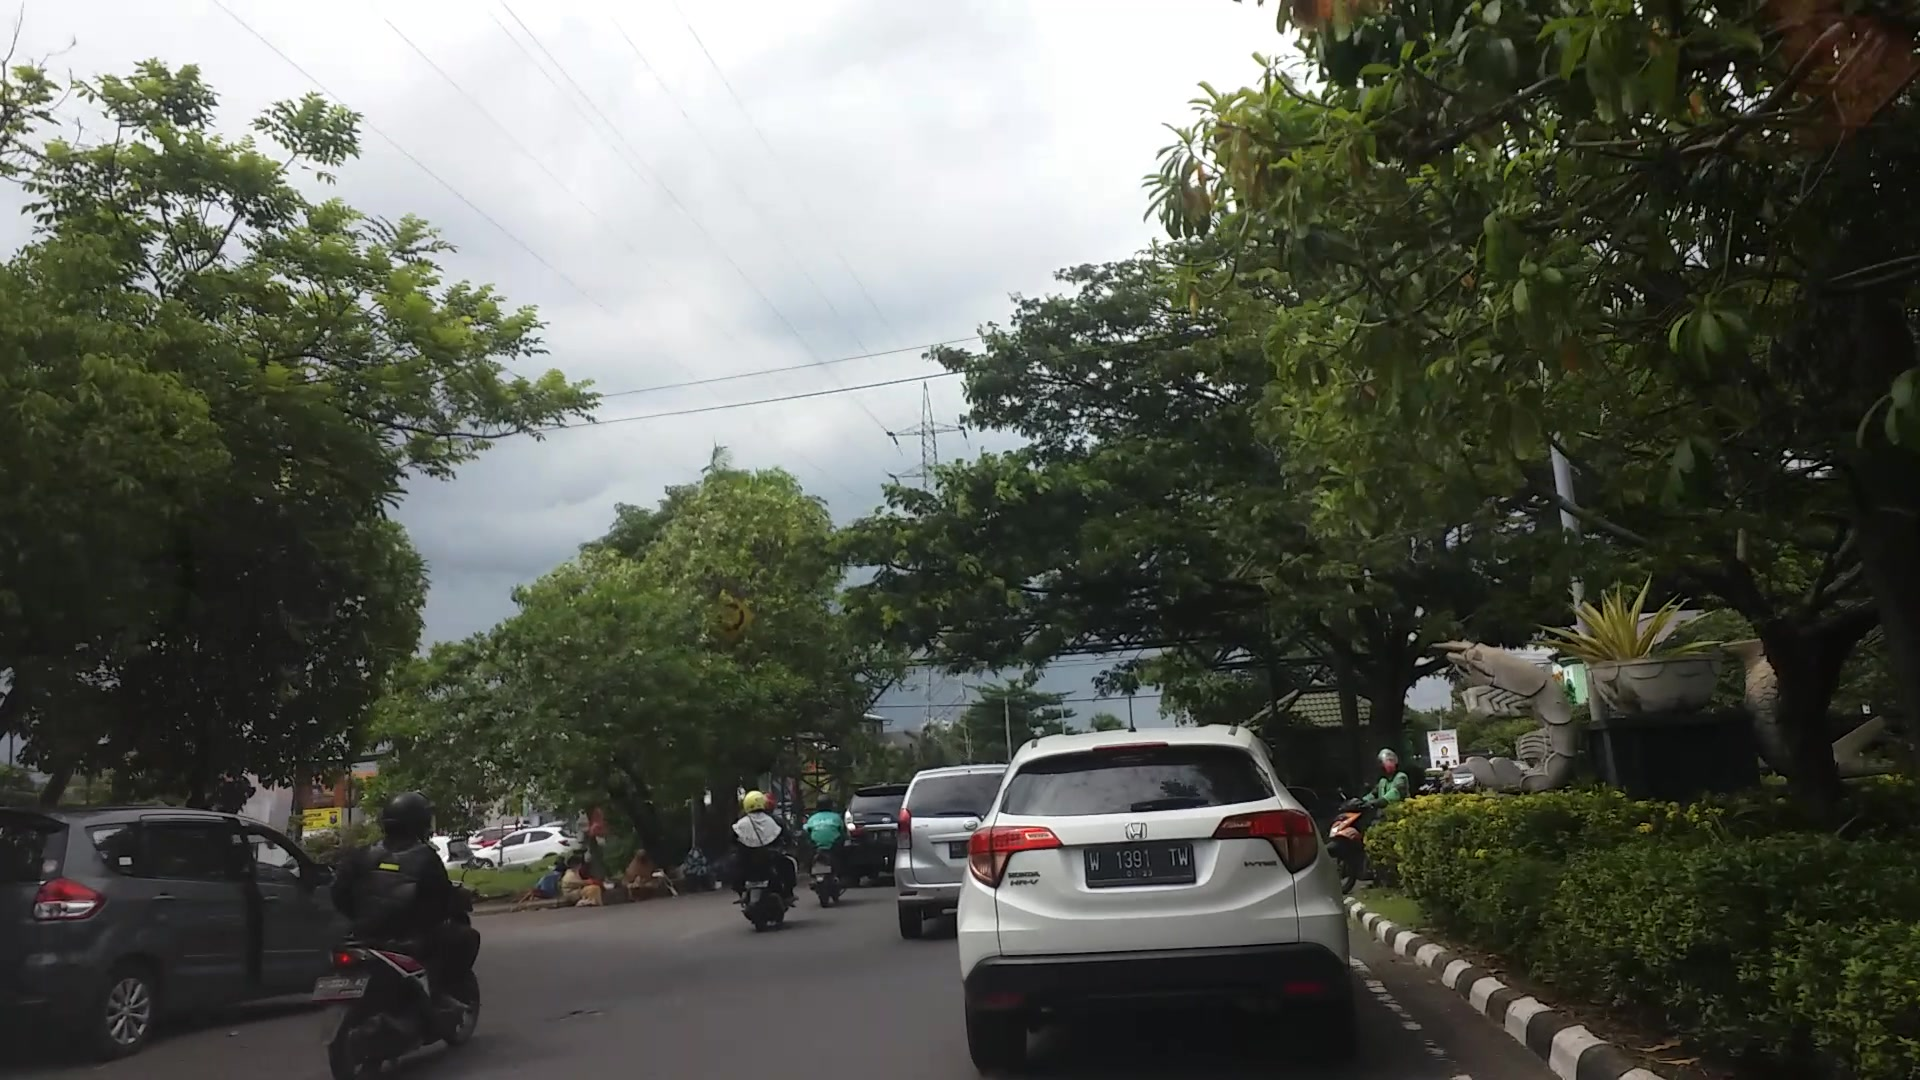plate_positive: (1084, 843, 1196, 884)
